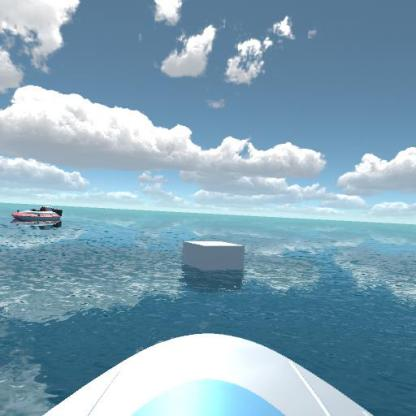usv3: (10, 199, 68, 231)
